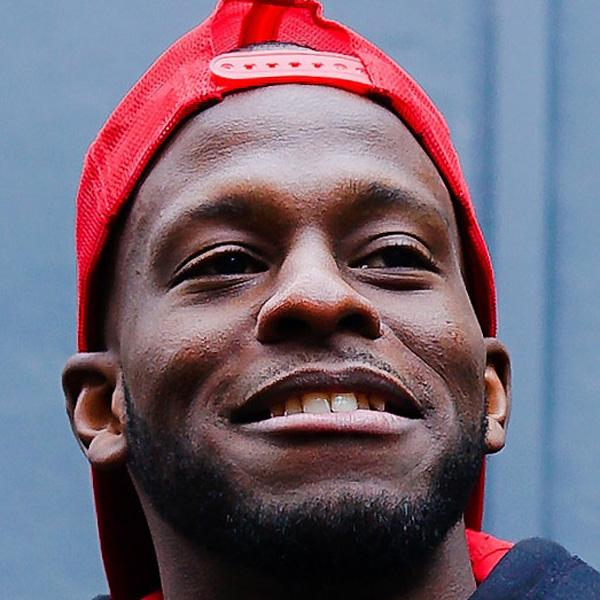Eyes: (166, 226, 278, 295), (345, 227, 445, 288)
